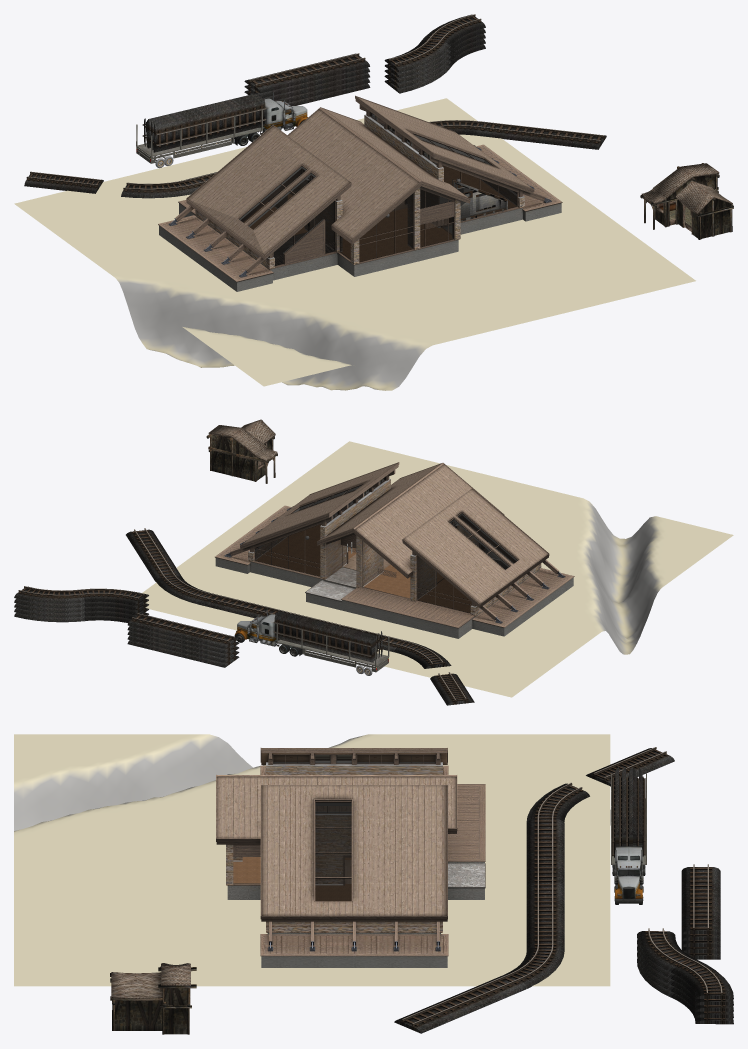
The picture shows the model from 3 angles, top to bottom: view 1: azimuth 30°, elevation 25°; view 2: azimuth 150°, elevation 25°; view 3: azimuth 270°, elevation 25°; orthographic projection. The views are drawn at different scales.
Visible parts, largest first — view 1: Terrain 6,3, A-FRAME MESH HOUSE-prim0-mesh (×20), TRACKSTRAIGHT16 Rail (×6), Cabane smithy, Stoneridge A-Frame House, Train TRACKCURVE 01 prim (×3), Camion transport materiaux; view 2: Terrain 6,3, A-FRAME MESH HOUSE-prim0-mesh (×16), TRACKSTRAIGHT16 Rail (×9), Stoneridge A-Frame House, Train TRACKCURVE 01 prim (×4), Cabane smithy, Camion transport materiaux; view 3: Terrain 6,3, A-FRAME MESH HOUSE-prim0-mesh (×13), TRACKSTRAIGHT16 Rail (×8), Train TRACKCURVE 01 prim (×4), Cabane smithy, Rail Network v2.0, Camion transport materiaux, Stoneridge A-Frame House.
Boxes of the visible parts, x1,y1,x2,y2 form: Terrain 6,3: (14,98,695,390); A-FRAME MESH HOUSE-prim0-mesh (×20): (158,95,562,291); TRACKSTRAIGHT16 Rail (×6): (24,53,606,193); Cabane smithy: (640,163,733,239); Stoneridge A-Frame House: (243,110,516,261); Train TRACKCURVE 01 prim (×3): (121,14,485,198); Camion transport materiaux: (136,92,307,168); Terrain 6,3: (142,441,733,697); A-FRAME MESH HOUSE-prim0-mesh (×16): (215,462,574,638); TRACKSTRAIGHT16 Rail (×9): (126,528,474,705); Stoneridge A-Frame House: (256,475,471,612); Train TRACKCURVE 01 prim (×4): (14,574,451,668); Cabane smithy: (206,419,277,483); Camion transport materiaux: (234,608,389,675); Terrain 6,3: (14,734,610,986); A-FRAME MESH HOUSE-prim0-mesh (×13): (216,748,485,967); TRACKSTRAIGHT16 Rail (×8): (394,747,720,1033); Train TRACKCURVE 01 prim (×4): (503,782,733,999); Cabane smithy: (110,963,196,1034); Rail Network v2.0: (526,816,564,885); Camion transport materiaux: (610,773,646,904); Stoneridge A-Frame House: (233,806,351,900).
Bounding box in the file's own units: 76.52 × 20.68 × 77.27.
Materials: 147 (138 with a texture image).
